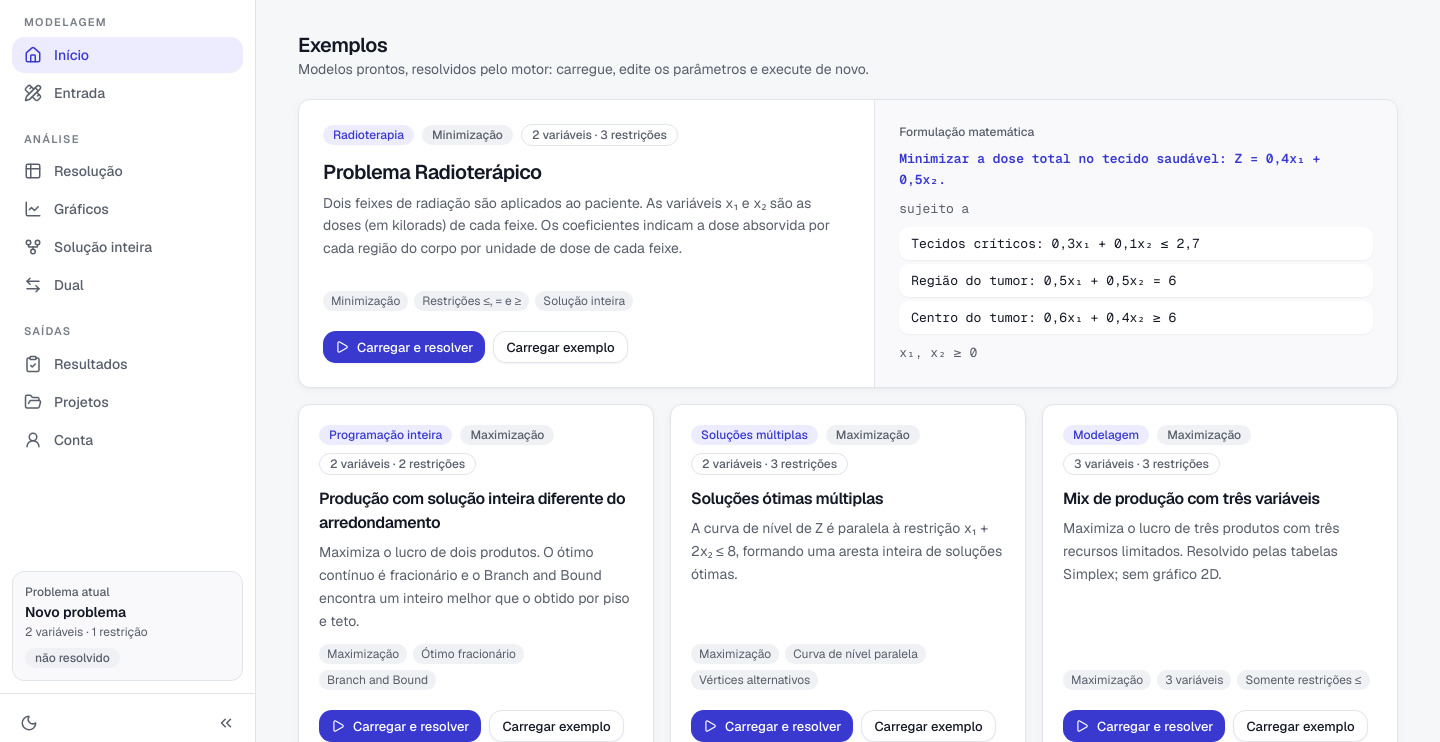
Test: Fluxo completo: exemplo → resolução → resultados › carrega o exemplo na Entrada e permite editar parâmetros e resolver novamente
The image size is (1440, 742).
(page scrolled)
Click the button "Carregar exemplo" below "Restrições ≤, = e ≥".
click(561, 348)  # box [493, 332, 628, 364]
(page scrolled)
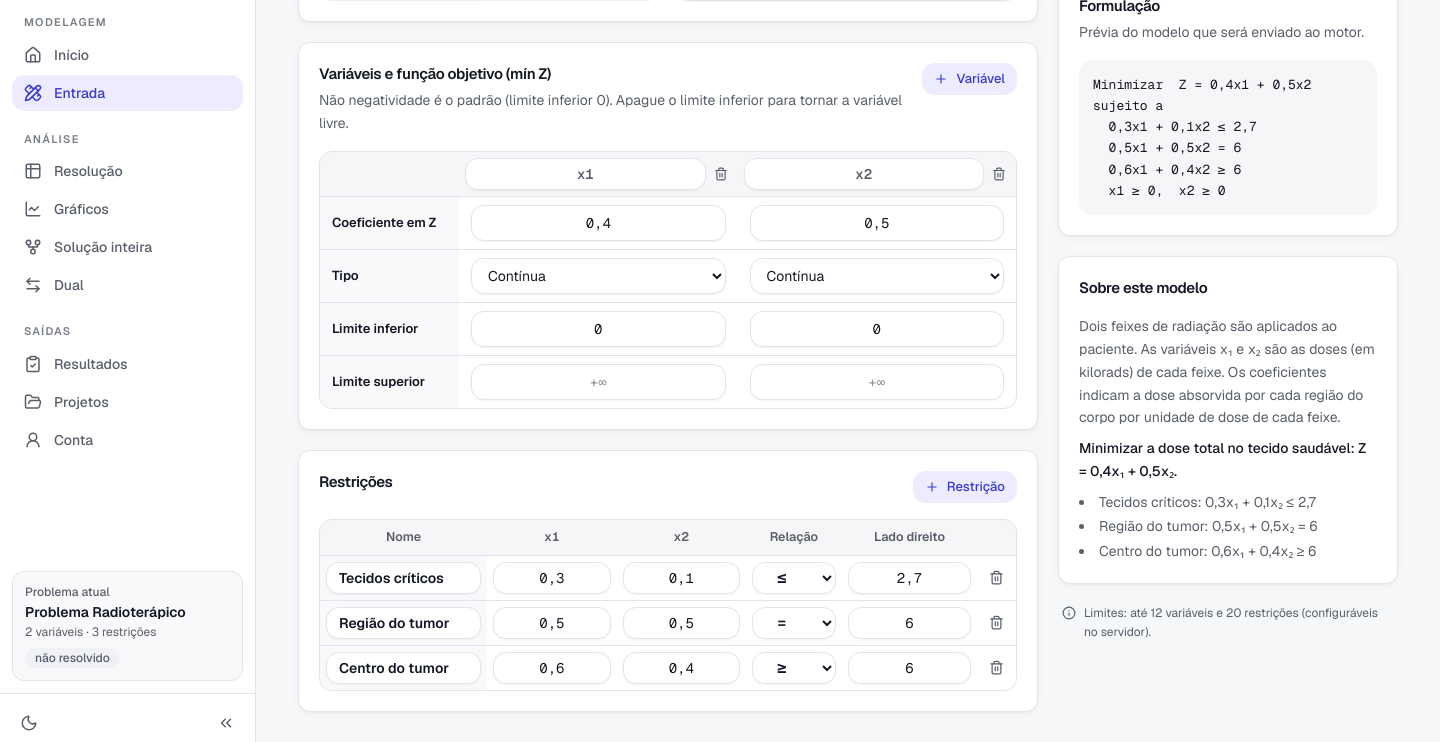
Expected: the field named "Lado direito de Região do tumor" holds "6"
Replace the text in the field named "Lado direito de Região do tumor" with "7" at [909, 622], box [848, 606, 971, 638]
(page scrolled)
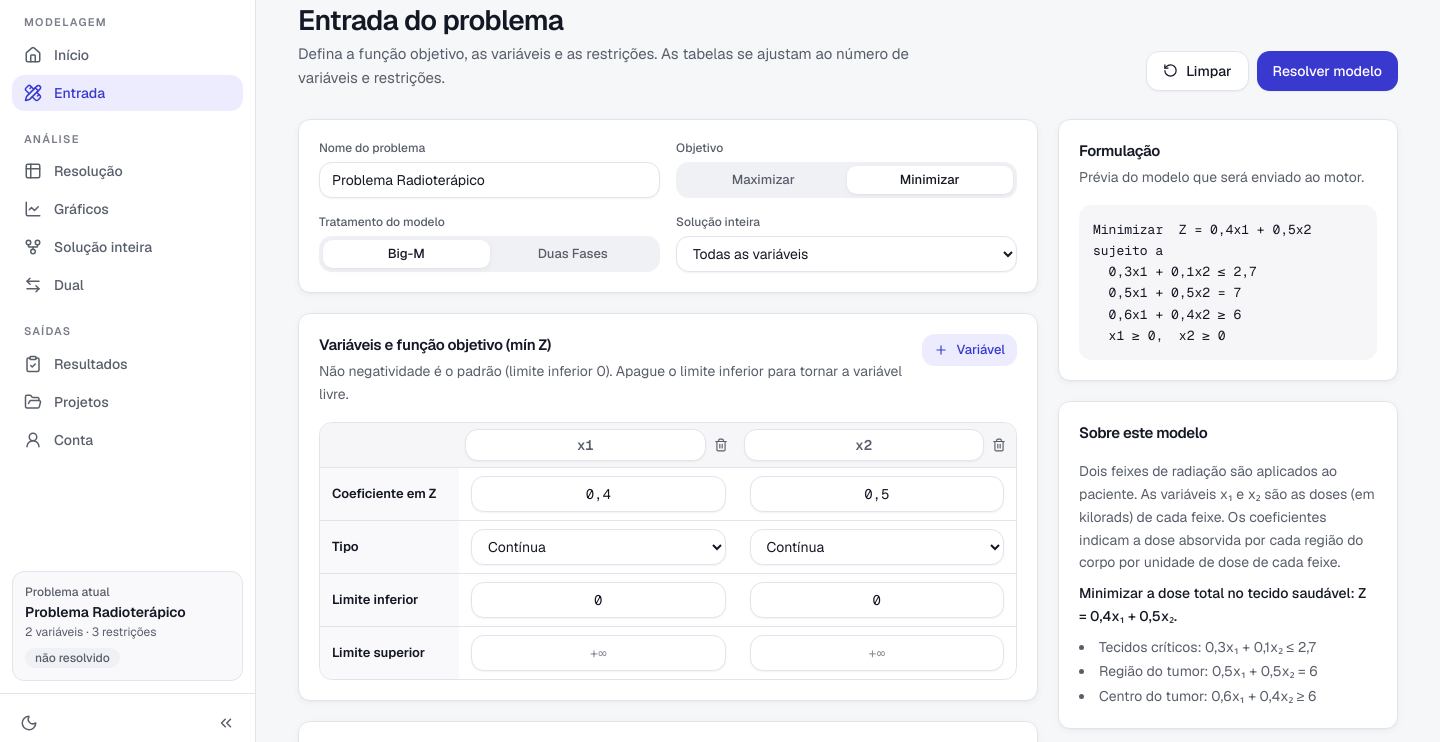
Expected: the text named "Formulação do modelo" shows "0,5x1 + 0,5x2 = 7", [1093, 221, 1311, 344]
Click the button "Resolver modelo".
click(1327, 71)  # box [1257, 51, 1398, 91]
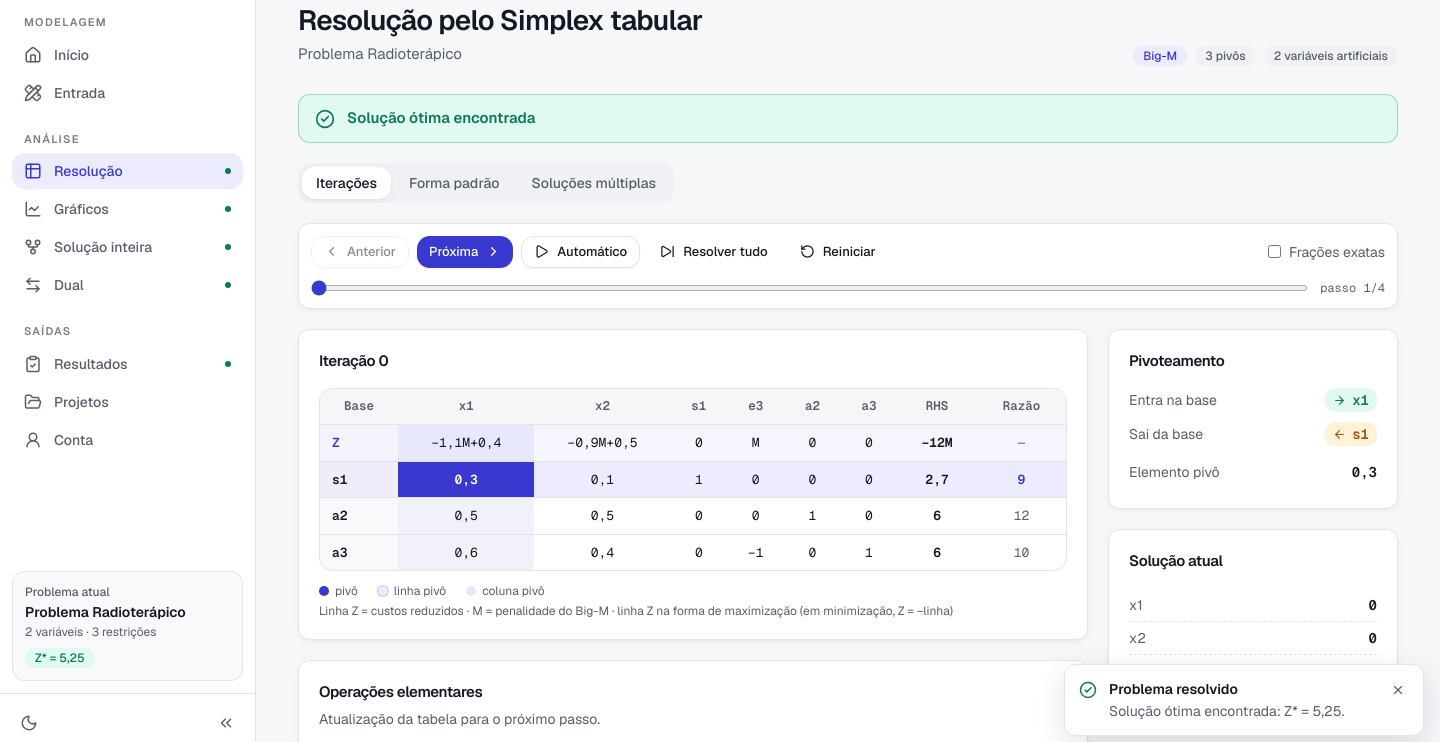
Expected: the heading "Resolução pelo Simplex tabular" is shown, [298, 4, 702, 36]
